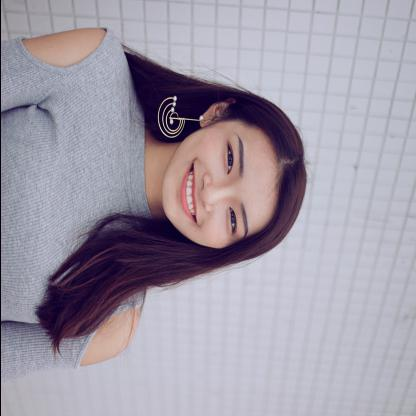Eye: (222, 138, 240, 182), (223, 204, 243, 238)
Mouth: (178, 164, 200, 226)
Nose: (198, 175, 229, 212)
